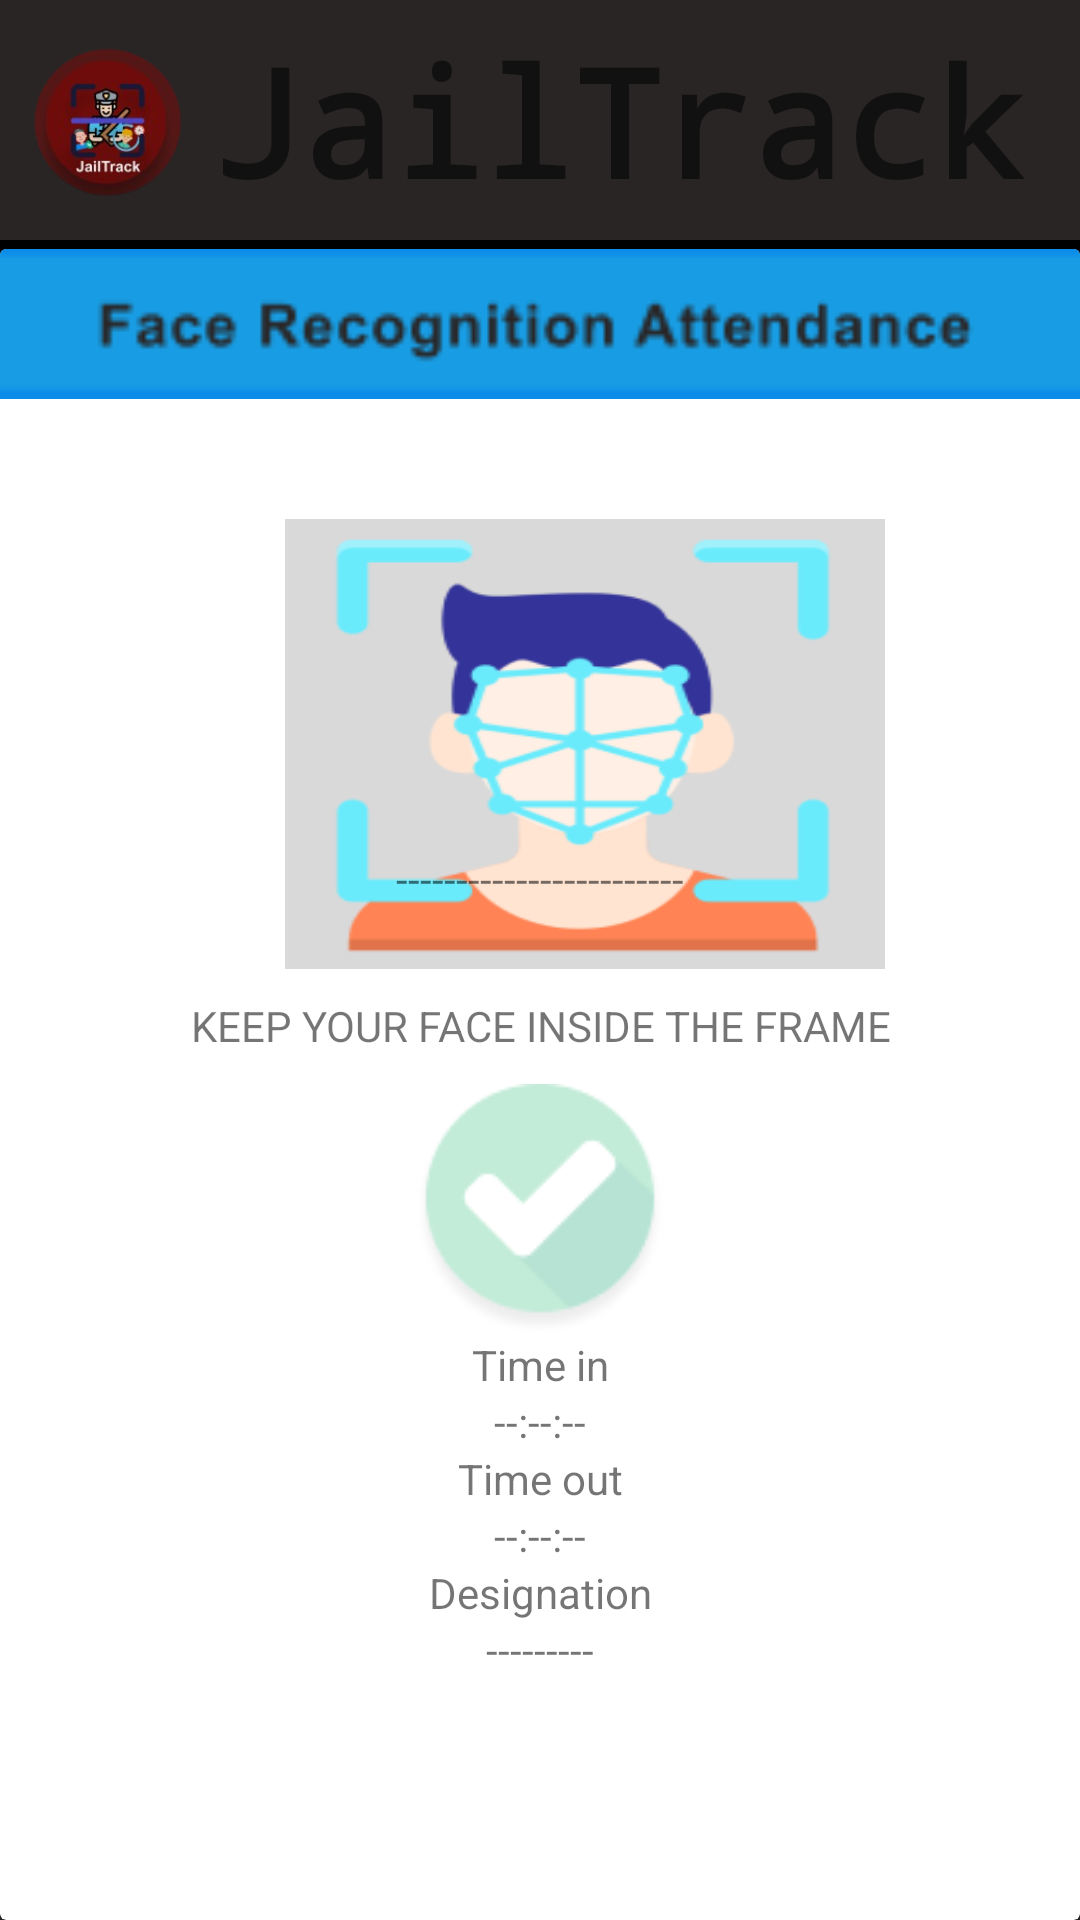

Where to tap for icons on this 1080 × 1920 app screen, as (x,y):
verification blur: (540,1198)
